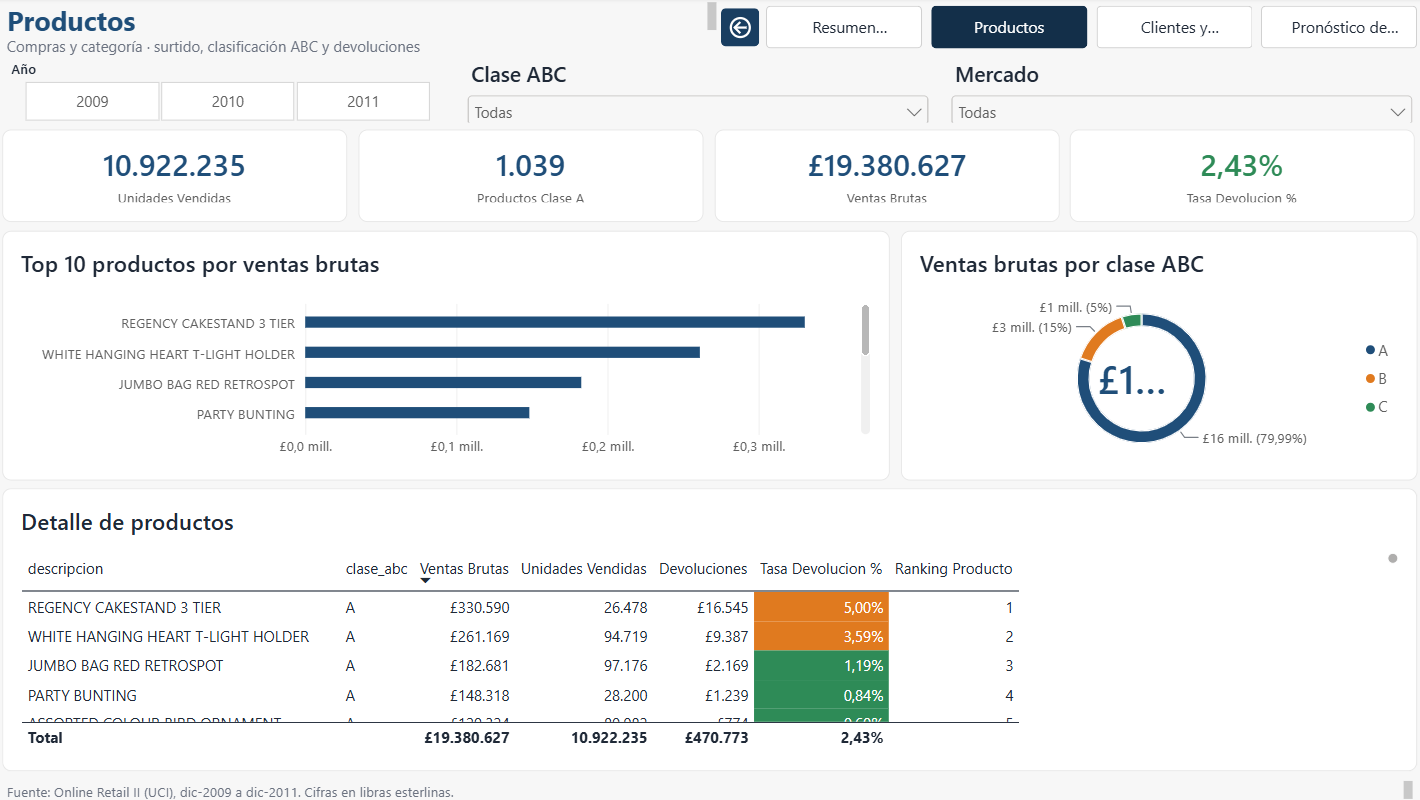

The page's visual inventory and layout, read from the dashboard file:
{"tool":"powerbi","page":{"name":"Productos","canvas":[1280,720],"ordinal":1},"visuals":[{"type":"textbox","box":[10,2,640,32],"z":19000},{"type":"textbox","box":[10,32,640,22],"z":20000},{"type":"pageNavigator","box":[690,8,580,38],"z":21000},{"type":"textbox","box":[10,696,1260,20],"z":22000},{"type":"slicer","fields":{"Values":["dim_fecha.anio"]},"box":[10,56,400,56],"z":23000},{"type":"slicer","fields":{"Values":["dim_producto.clase_abc"]},"box":[420,56,420,56],"z":24000},{"type":"slicer","fields":{"Values":["dim_pais.mercado"]},"box":[850,56,420,56],"z":25000},{"type":"card","fields":{"Values":["_Medidas.Unidades Vendidas"]},"box":[10,118,307,82],"z":26000},{"type":"card","fields":{"Values":["_Medidas.Productos Clase A"]},"box":[327,118,307,82],"z":27000},{"type":"card","fields":{"Values":["_Medidas.Ventas Brutas"]},"box":[644,118,307,82],"z":28000},{"type":"card","fields":{"Values":["_Medidas.Tasa Devolucion %"]},"box":[961,118,307,82],"z":29000},{"type":"clusteredBarChart","title":"Top 10 productos por ventas brutas","fields":{"Category":["dim_producto.descripcion"],"Y":["_Medidas.Ventas Brutas"]},"box":[10,208,790,222],"z":30000},{"type":"donutChart","title":"Ventas brutas por clase ABC","fields":{"Category":["dim_producto.clase_abc"],"Y":["_Medidas.Ventas Brutas"]},"box":[810,208,460,222],"z":31000},{"type":"tableEx","title":"Detalle de productos","fields":{"Values":["dim_producto.descripcion","dim_producto.clase_abc","_Medidas.Ventas Brutas","_Medidas.Unidades Vendidas","_Medidas.Devoluciones","_Medidas.Tasa Devolucion %","_Medidas.Ranking Producto"]},"box":[10,438,1260,252],"z":32000},{"type":"actionButton","box":[650,10,34,34],"z":32001}]}

Visuals, with their boxes in screenshot pixels (x1, y1, x2, y2), scaled from the page's 1280x720 canvas onto the 1420x800 screenshot:
textbox: 11, 2, 721, 38
textbox: 11, 36, 721, 60
pageNavigator: 765, 9, 1409, 51
textbox: 11, 773, 1409, 796
slicer - dim_fecha.anio: 11, 62, 455, 124
slicer - dim_producto.clase_abc: 466, 62, 932, 124
slicer - dim_pais.mercado: 943, 62, 1409, 124
card - _Medidas.Unidades Vendidas: 11, 131, 352, 222
card - _Medidas.Productos Clase A: 363, 131, 703, 222
card - _Medidas.Ventas Brutas: 714, 131, 1055, 222
card - _Medidas.Tasa Devolucion %: 1066, 131, 1407, 222
"Top 10 productos por ventas brutas" clusteredBarChart: 11, 231, 888, 478
"Ventas brutas por clase ABC" donutChart: 899, 231, 1409, 478
"Detalle de productos" tableEx: 11, 487, 1409, 767
actionButton: 721, 11, 759, 49
